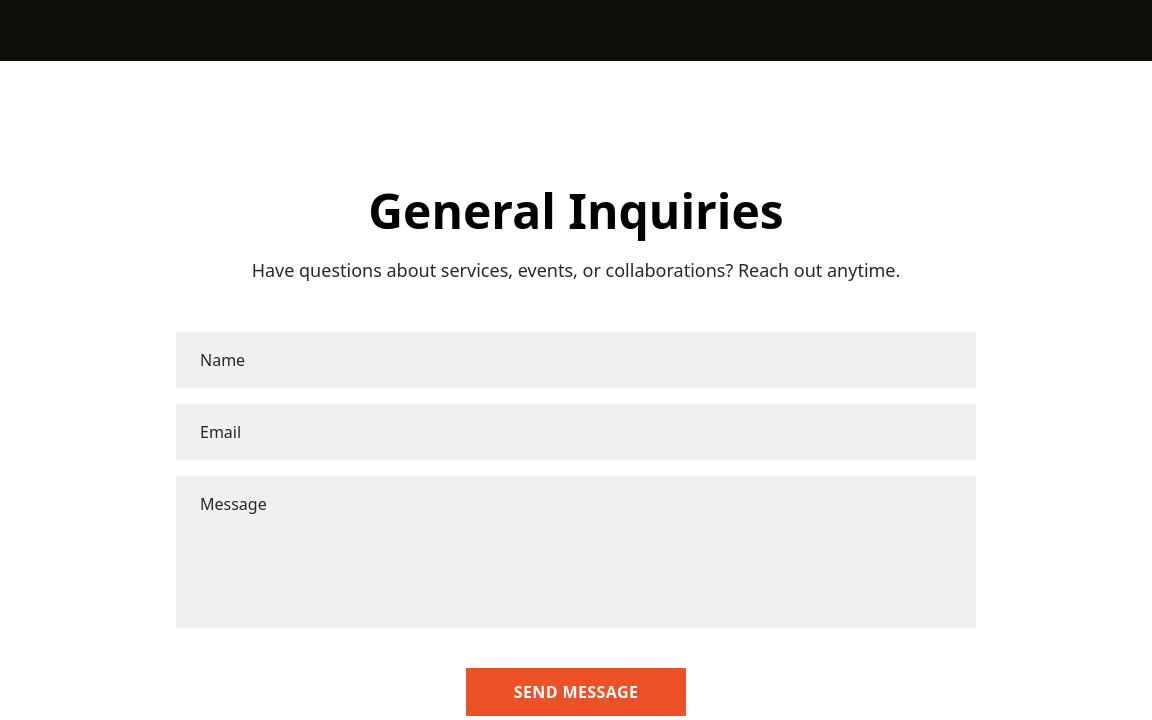
Test: Contact Form › shows "SENDING..." and disables button while loading
(page scrolled)
Type "Test User" into the field labelled "Name". click: (576, 360)
box: [176, 332, 976, 388]
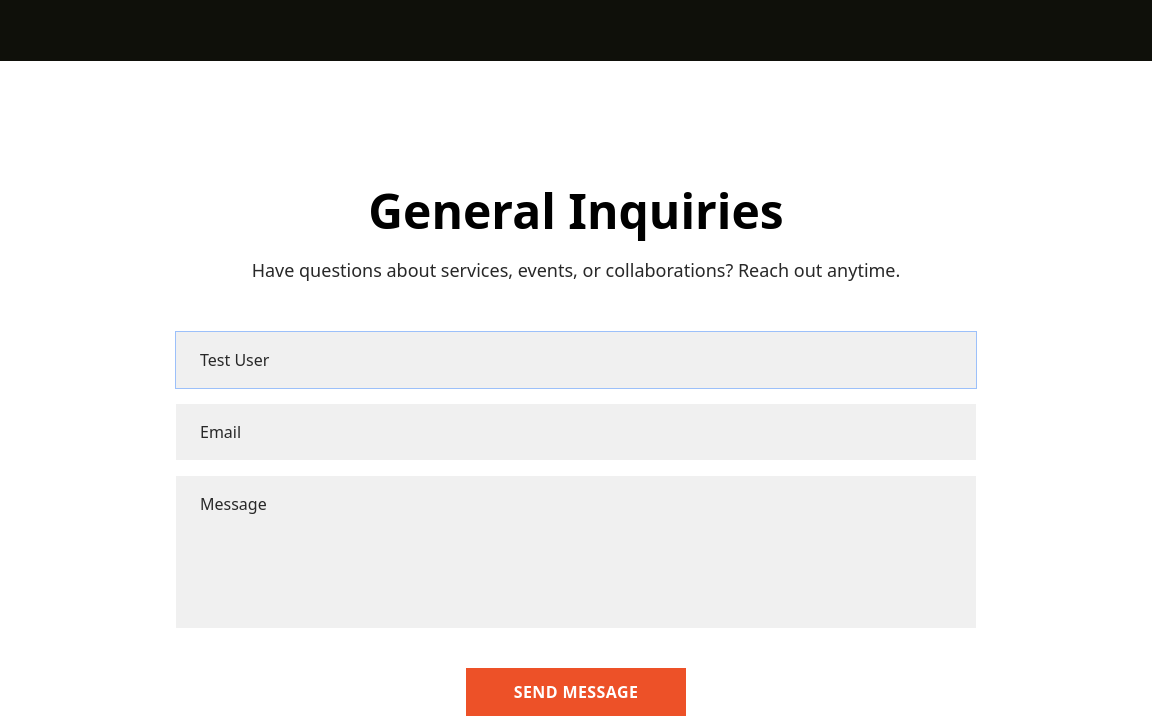
Type "test@example.com" into the field labelled "Email". click: (576, 432)
box: [176, 404, 976, 460]
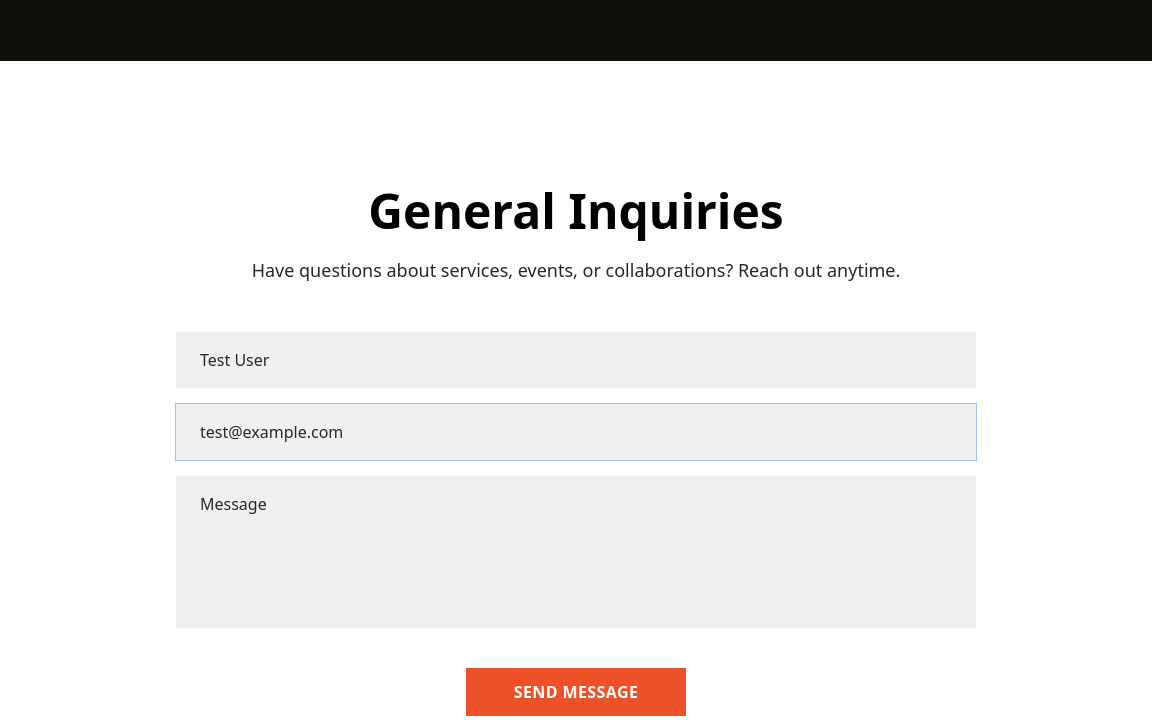
Type "Hello there!" into the text box labelled "Message". click: (576, 552)
box: [176, 476, 976, 628]
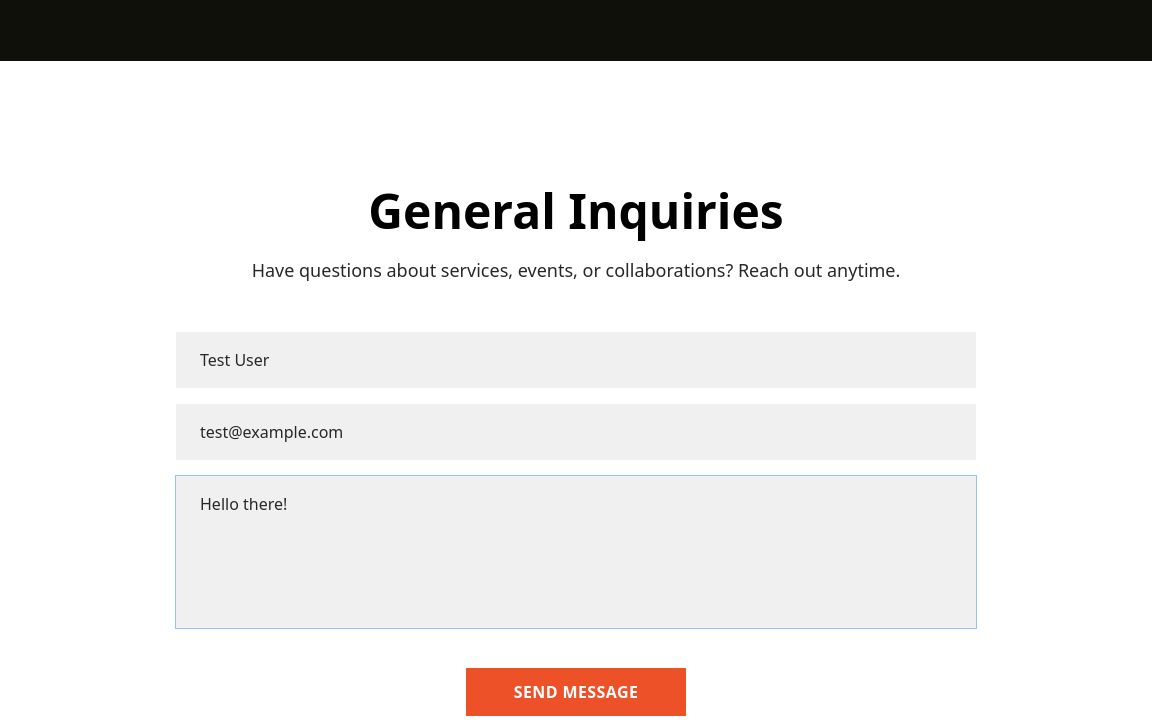
Click the button "SEND MESSAGE". click: (576, 692)
box: [466, 668, 686, 716]
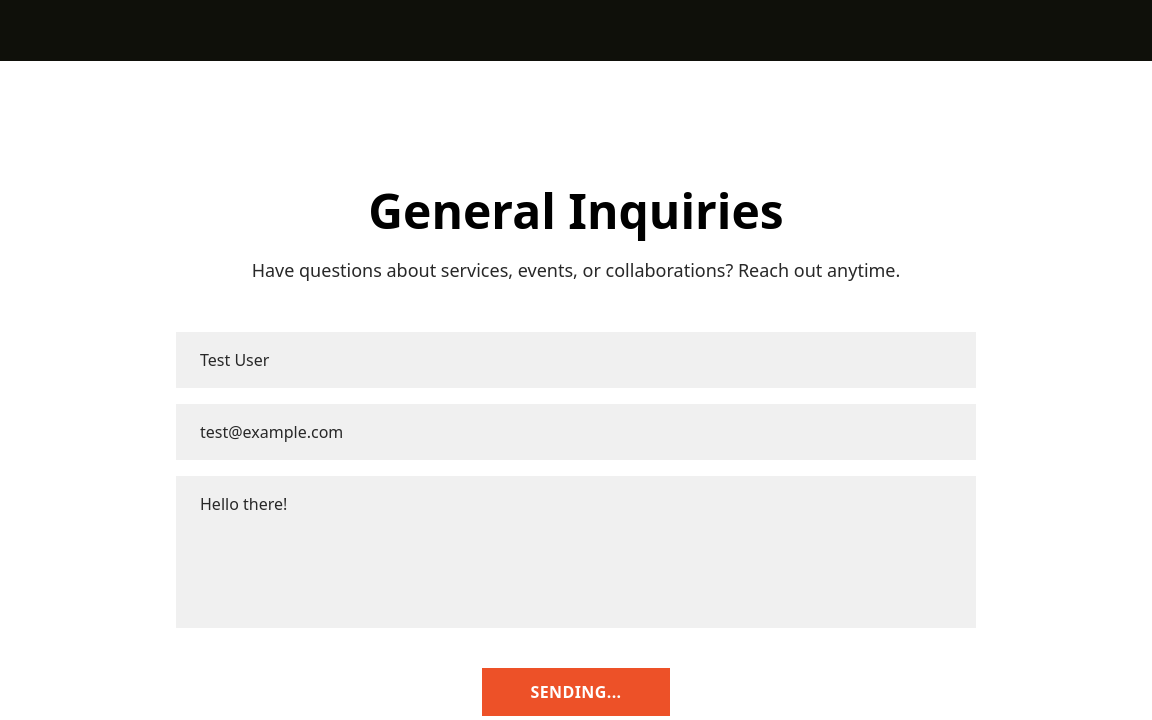
expect the button "SENDING..." is disabled: met, box [482, 668, 670, 716]
